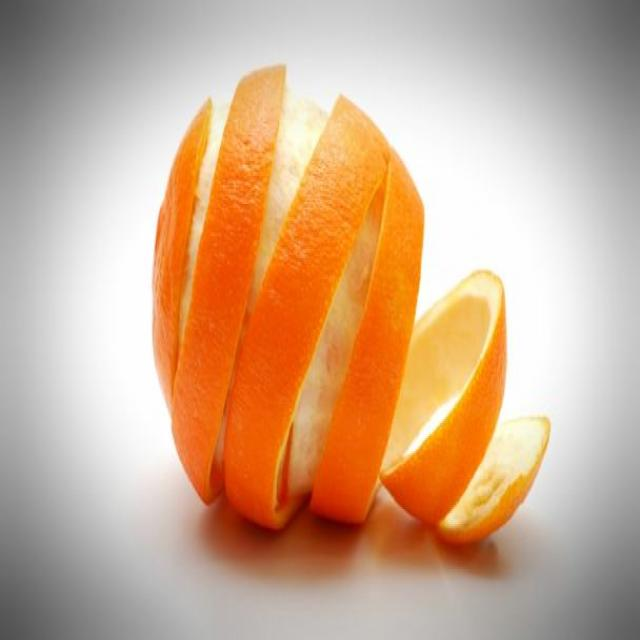Cascara de naranja: (147, 64, 545, 553)
